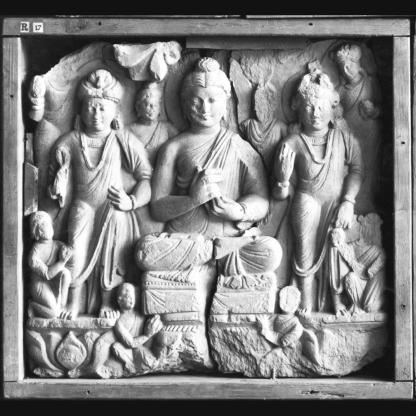buddha-sitting: (137, 43, 281, 320)
